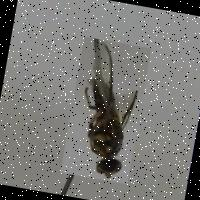Oriental-fruit-fly: (59, 36, 150, 184)
